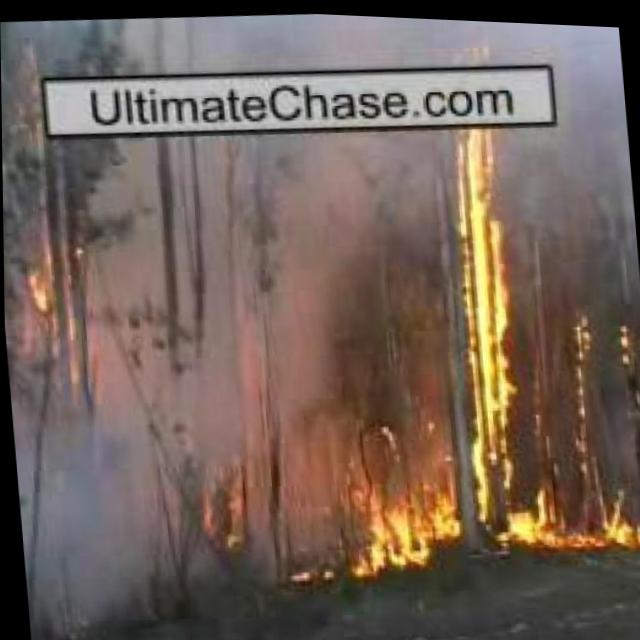Fire: (435, 28, 556, 554), (329, 430, 467, 590), (3, 228, 86, 373), (185, 447, 267, 564), (568, 446, 640, 552)
